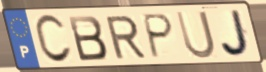B: (65, 14, 109, 63)
C: (33, 13, 75, 66)
J: (218, 8, 253, 59)
P: (142, 12, 176, 60)
R: (103, 14, 148, 61)
U: (173, 9, 218, 60)
